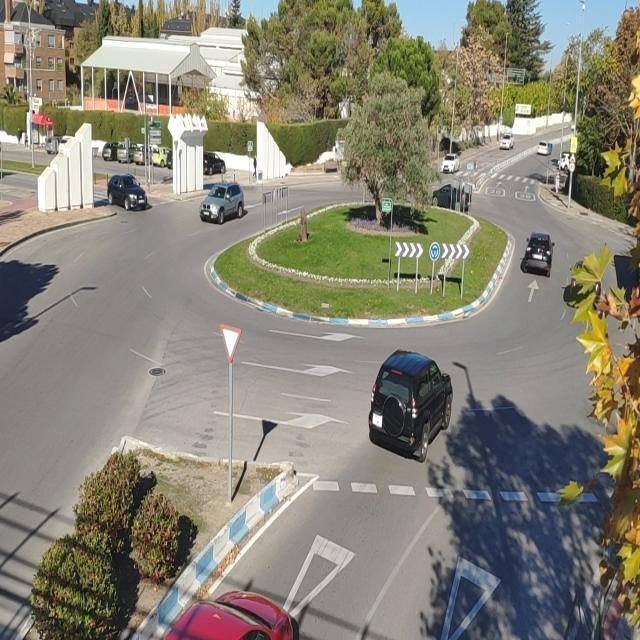Car: (367, 350, 454, 464), (160, 587, 297, 640), (200, 182, 244, 225), (522, 233, 556, 278), (107, 175, 147, 211), (203, 152, 226, 175), (432, 185, 451, 208), (440, 154, 460, 174), (499, 134, 514, 150)
Van: (538, 141, 552, 155)
